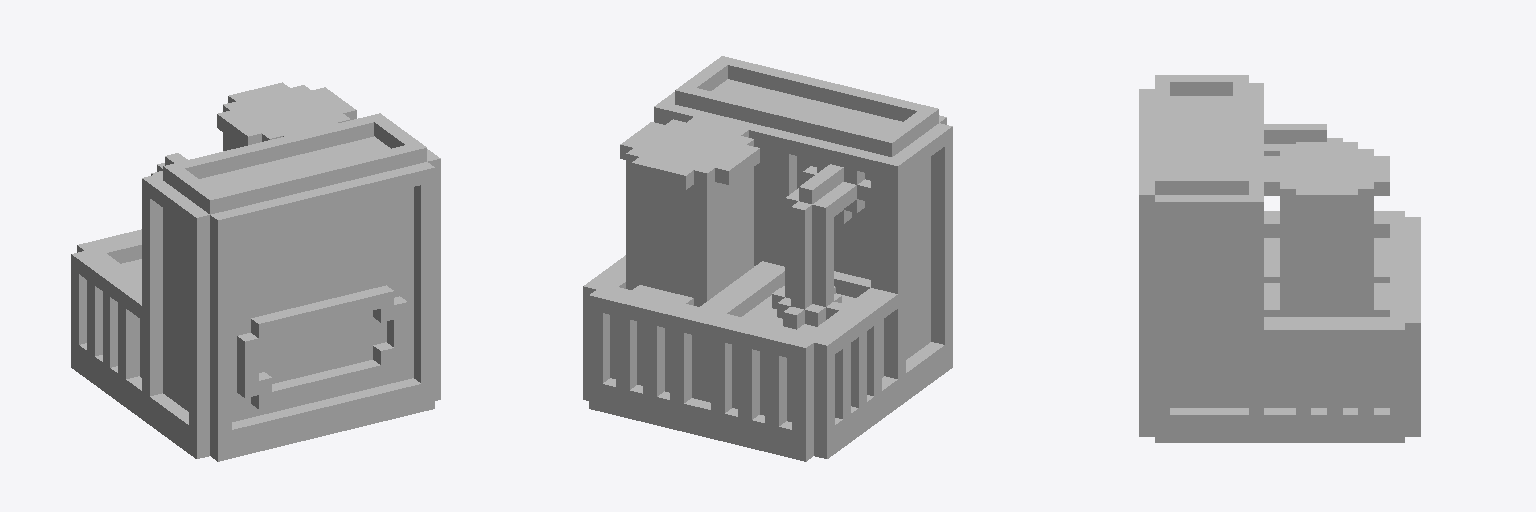
The model's file is essenceProcessor.obj.
3 views of the same model, side by side, from view 1: azimuth 30°, elevation 25°; view 2: azimuth 150°, elevation 25°; view 3: azimuth 270°, elevation 25° (orthographic).
Visible parts, largest first — view 1: Essence_Processor; view 2: Essence_Processor; view 3: Essence_Processor.
Part boxes in pixels (x1,y1,x2,y2): Essence_Processor: (71,82,440,461); Essence_Processor: (583,56,952,461); Essence_Processor: (1139,75,1420,442).
Bounding box in the file's own units: 18 × 18 × 18.